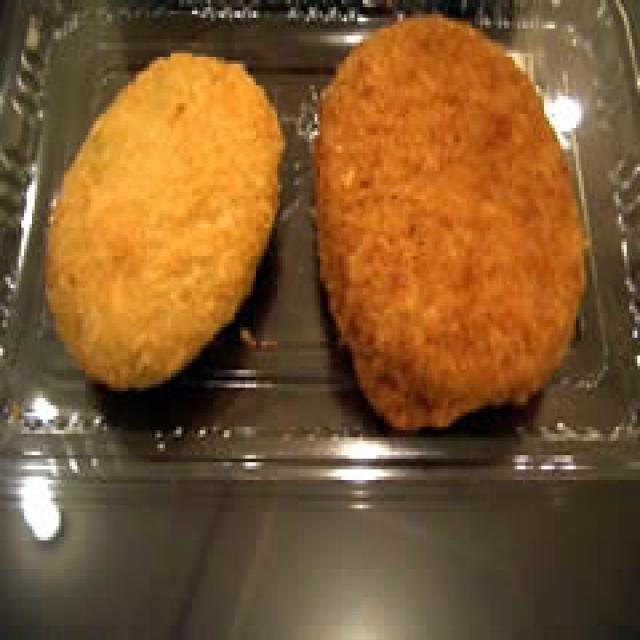炸货点心: (296, 11, 595, 448)
